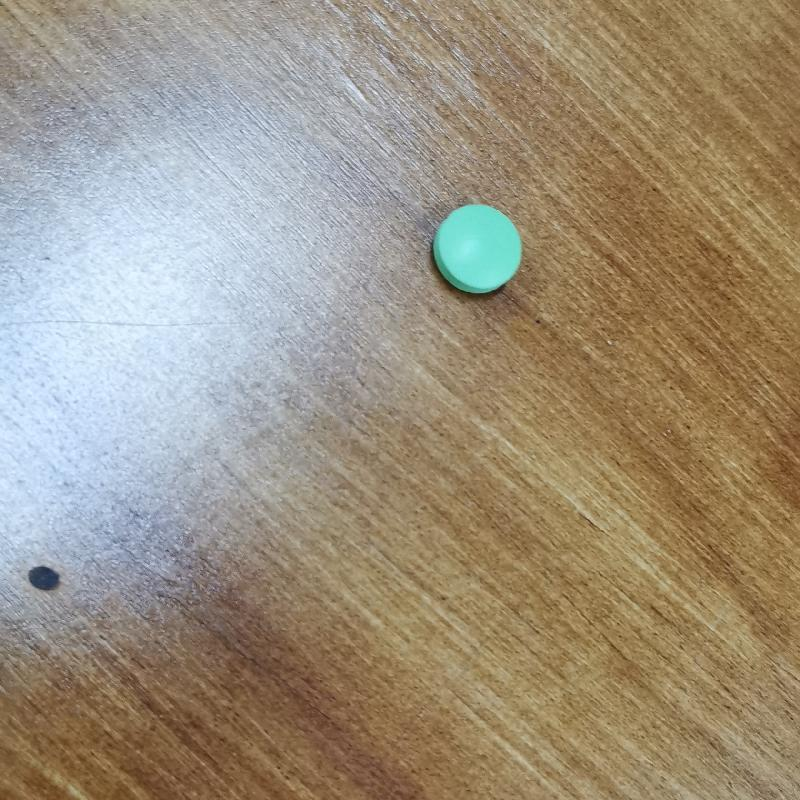pills: (431, 195, 535, 321)
